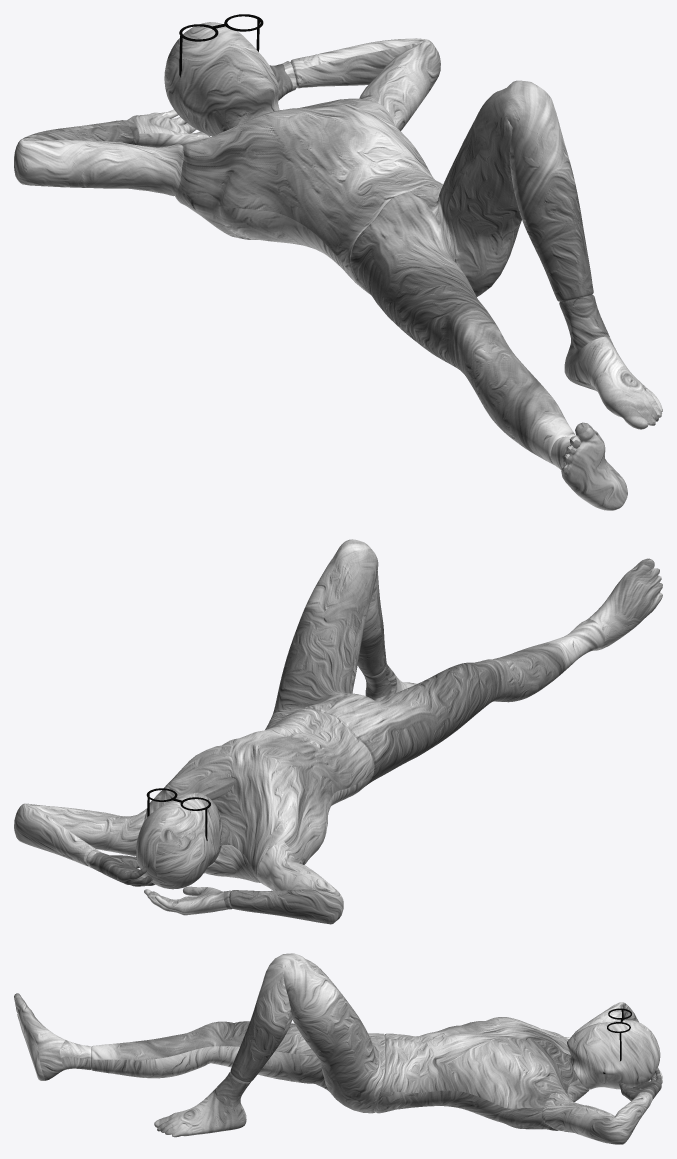
3 views of the same model, one above another, from view 1: azimuth 30°, elevation 25°; view 2: azimuth 150°, elevation 25°; view 3: azimuth 270°, elevation 25° (orthographic). The views are drawn at different scales.
Visible parts, largest first — view 1: Ch36, Cube; view 2: Ch36; view 3: Ch36, Cube.
Part boxes in pixels (box(x1,y1,x2,y2)): Ch36: box(14, 22, 662, 510); Cube: box(179, 14, 263, 77); Ch36: box(14, 539, 662, 924); Ch36: box(14, 953, 662, 1144); Cube: box(603, 1008, 631, 1073).
Size of the model in its own units: 1.87 by 1.15 by 4.
2 materials, 1 textured.
